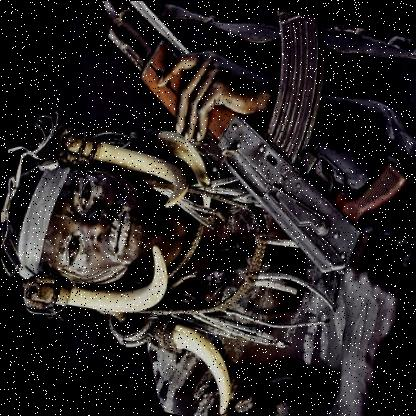rifle: (5, 0, 416, 290)
